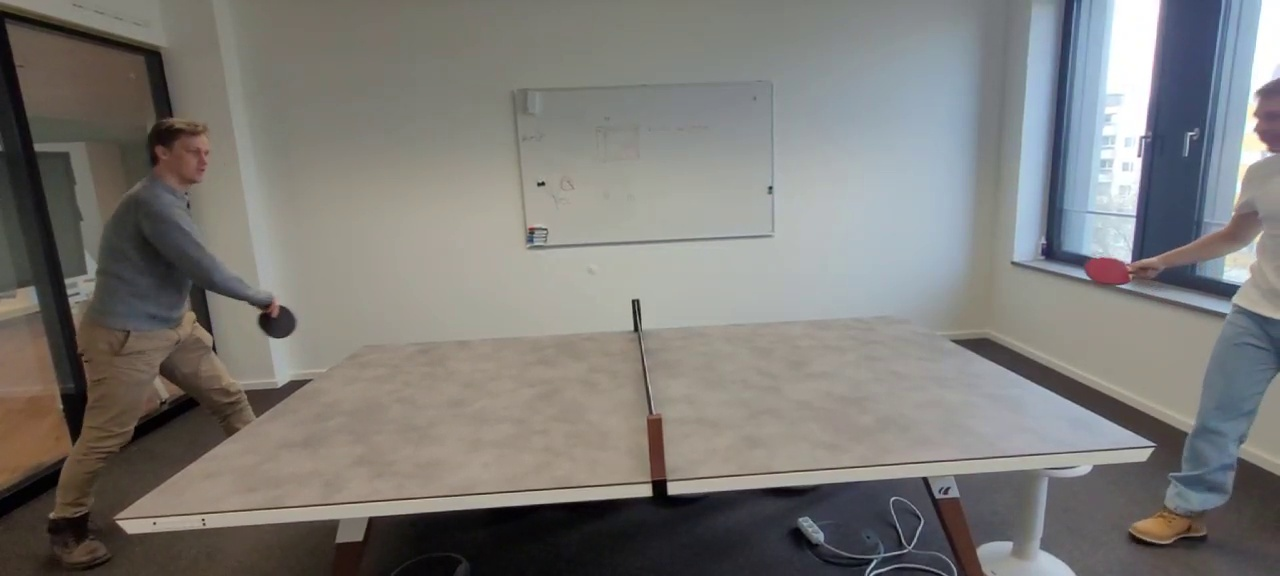1: (1083, 258, 1157, 286), (258, 304, 295, 339)
2: (586, 264, 600, 277)
ttplatte: (112, 314, 1153, 517)
